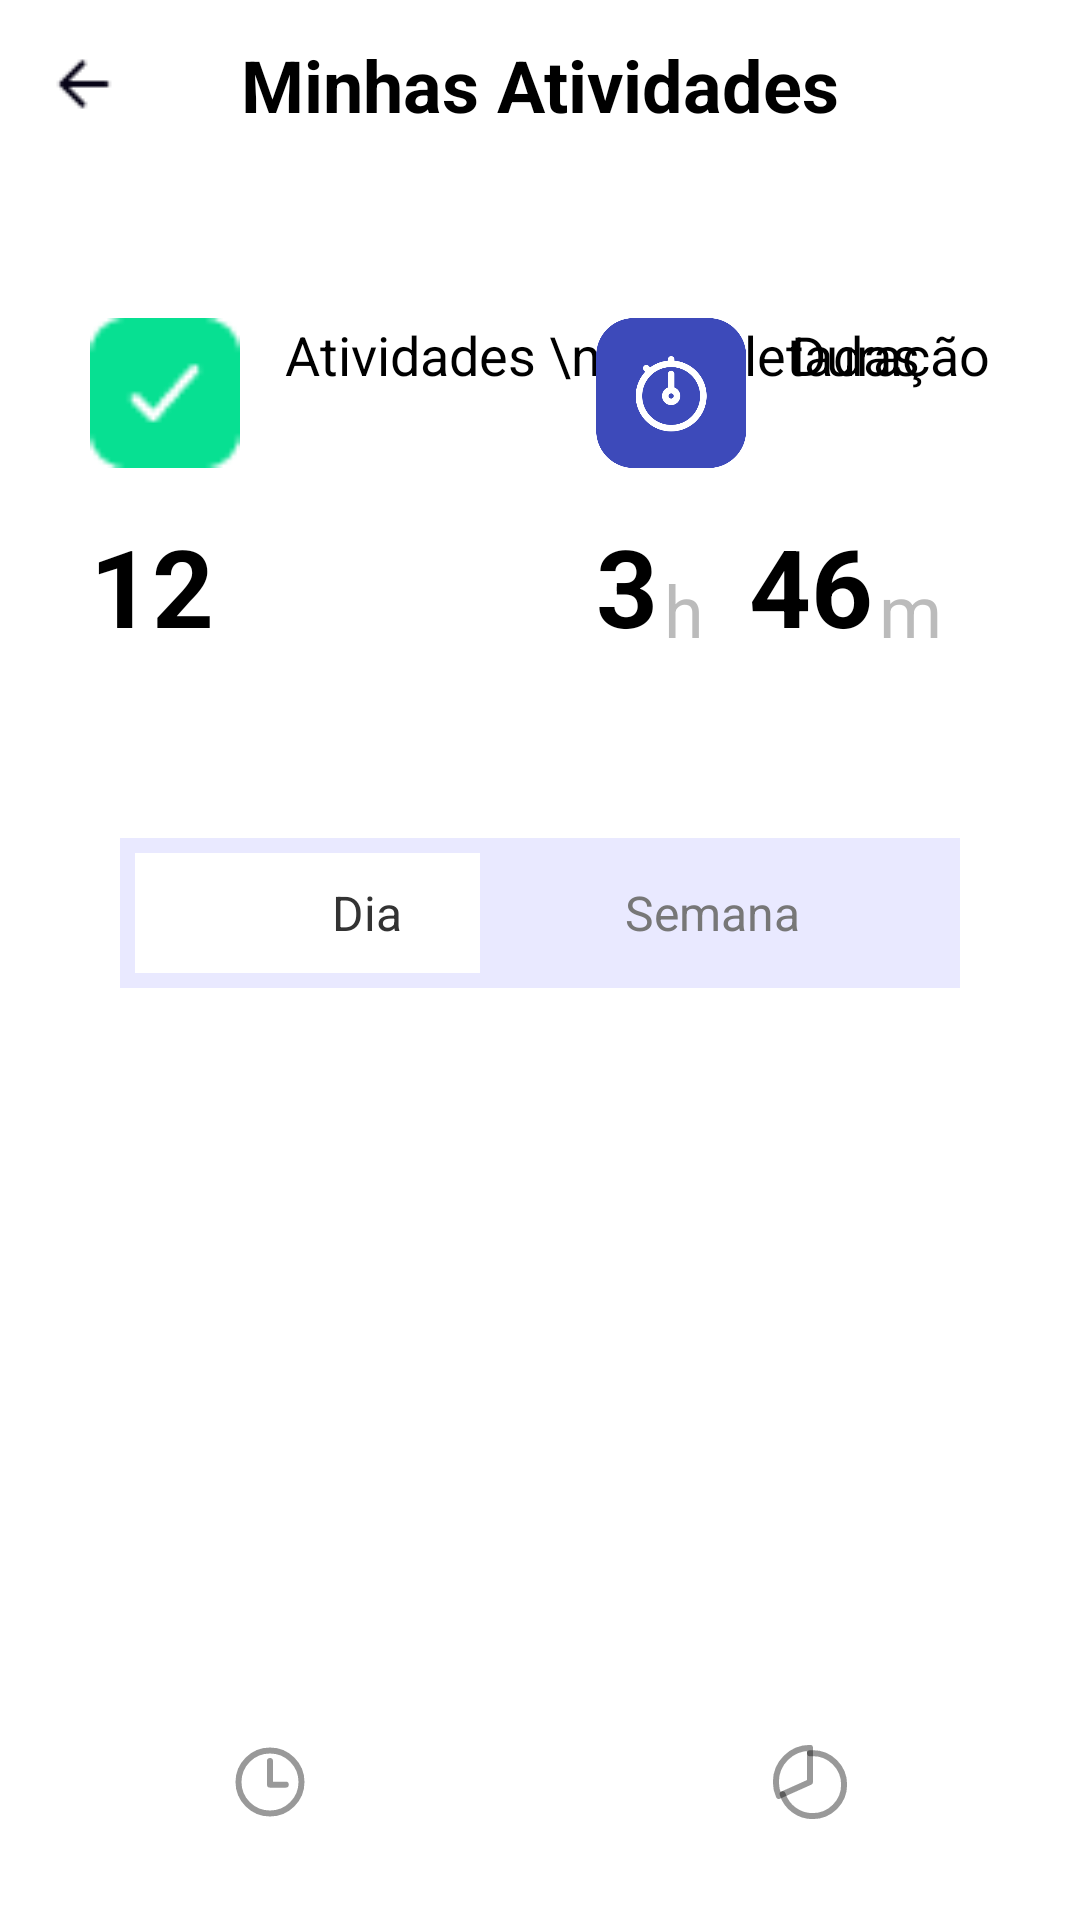

Named icons in this screenshot (1080w x 1920h) and their bounding boxes, [left=x1, top=y1, right=x2, bottom=y2]:
check: [left=90, top=318, right=240, bottom=468]
grafico: [left=773, top=1745, right=847, bottom=1819]
voltar: [left=58, top=59, right=110, bottom=109]
